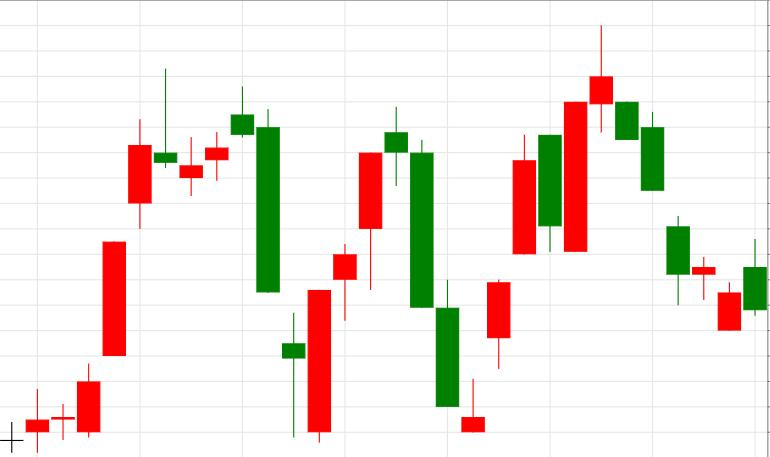evening_star_fall: (283, 106, 433, 443)
morning_star_rise: (385, 106, 511, 433)
